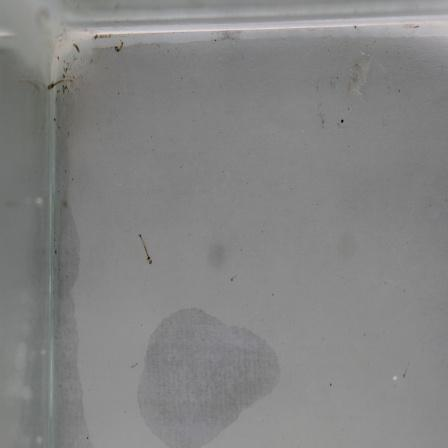Jentik-Nyamuk: (134, 227, 157, 267), (42, 72, 79, 92), (111, 38, 128, 58)
